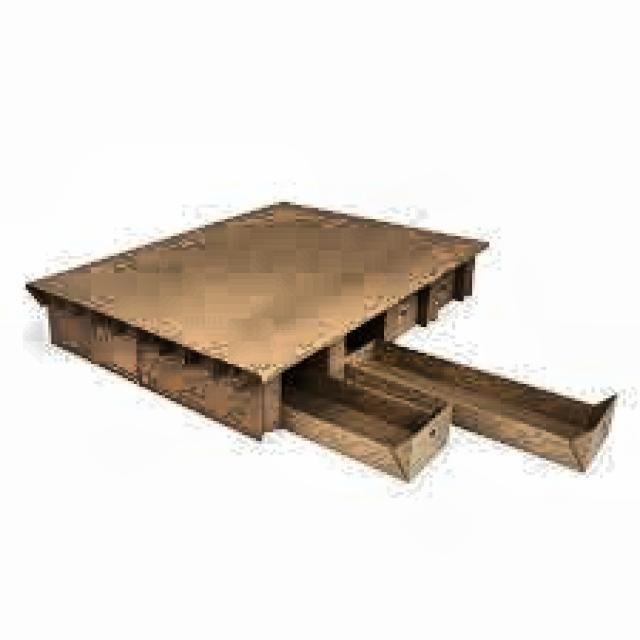cardboard: (22, 196, 618, 484)
